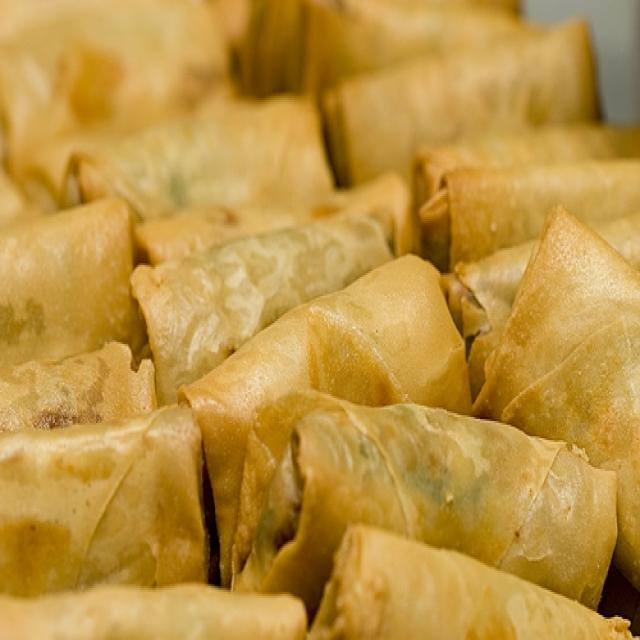炸货点心: (18, 18, 616, 610)
